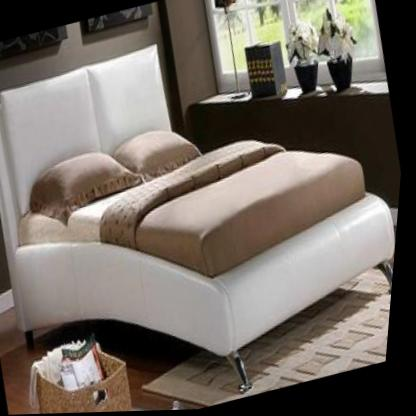Bed: (0, 49, 399, 375)
